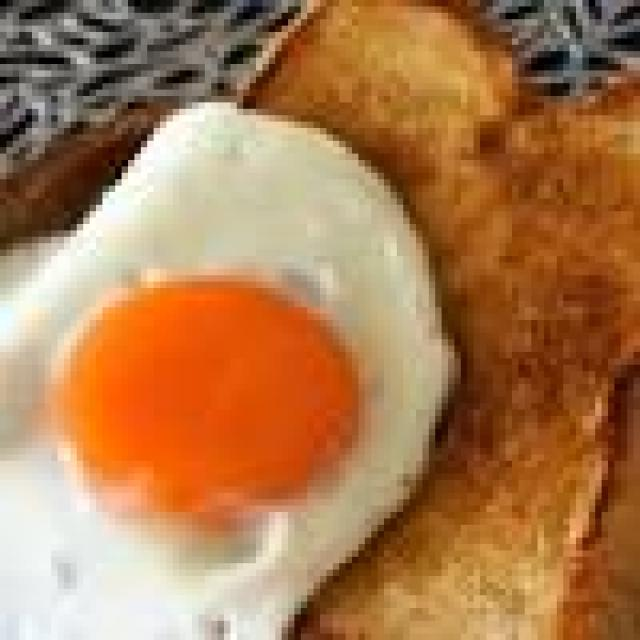Bread: (245, 0, 640, 639)
Egg: (0, 104, 455, 639)
